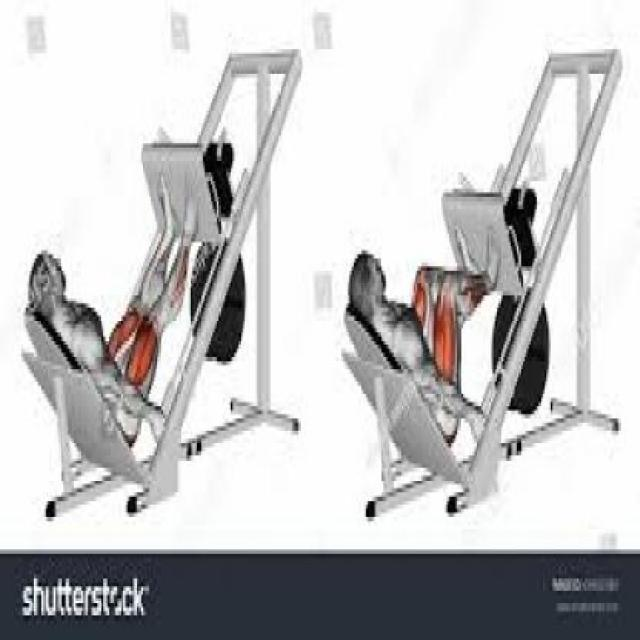leg press: (20, 24, 309, 522), (338, 41, 632, 522)
